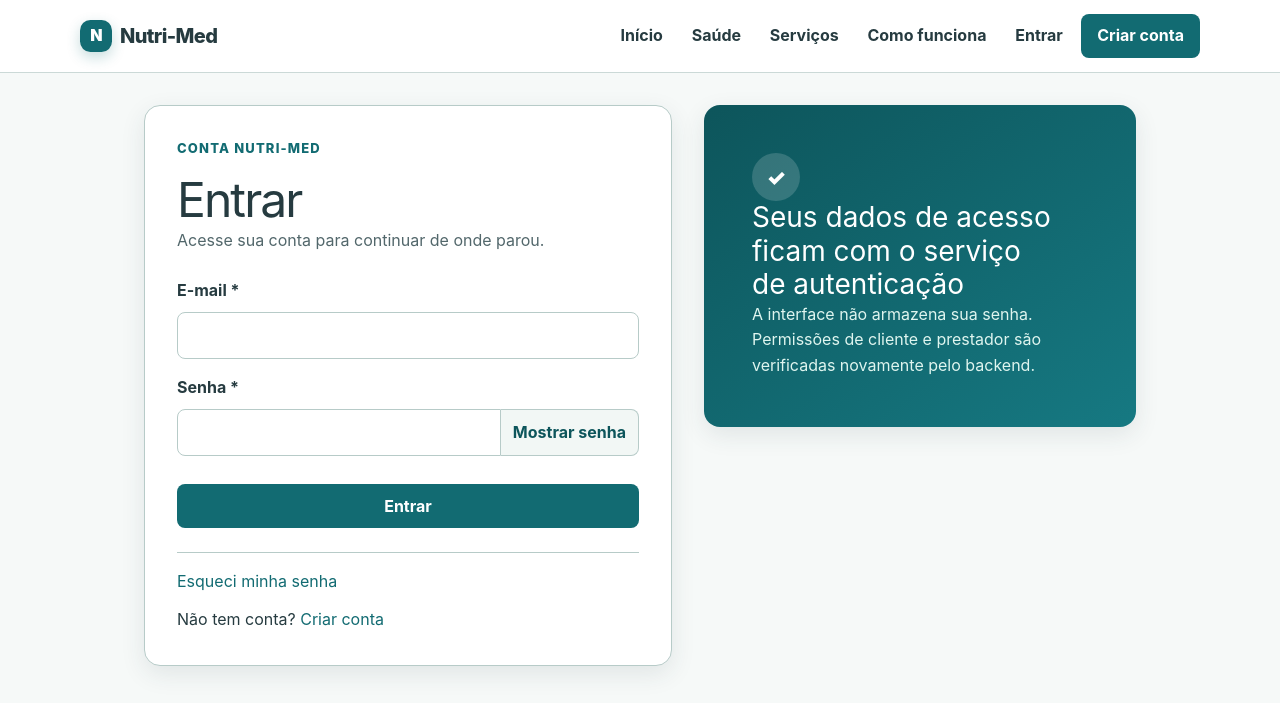
Scenario: autenticação › usa mensagem genérica para credenciais inválidas
Step 1. Type "pessoa@example.invalid" into the field labelled "E-mail *" → (408, 335), box [177,312,639,359]
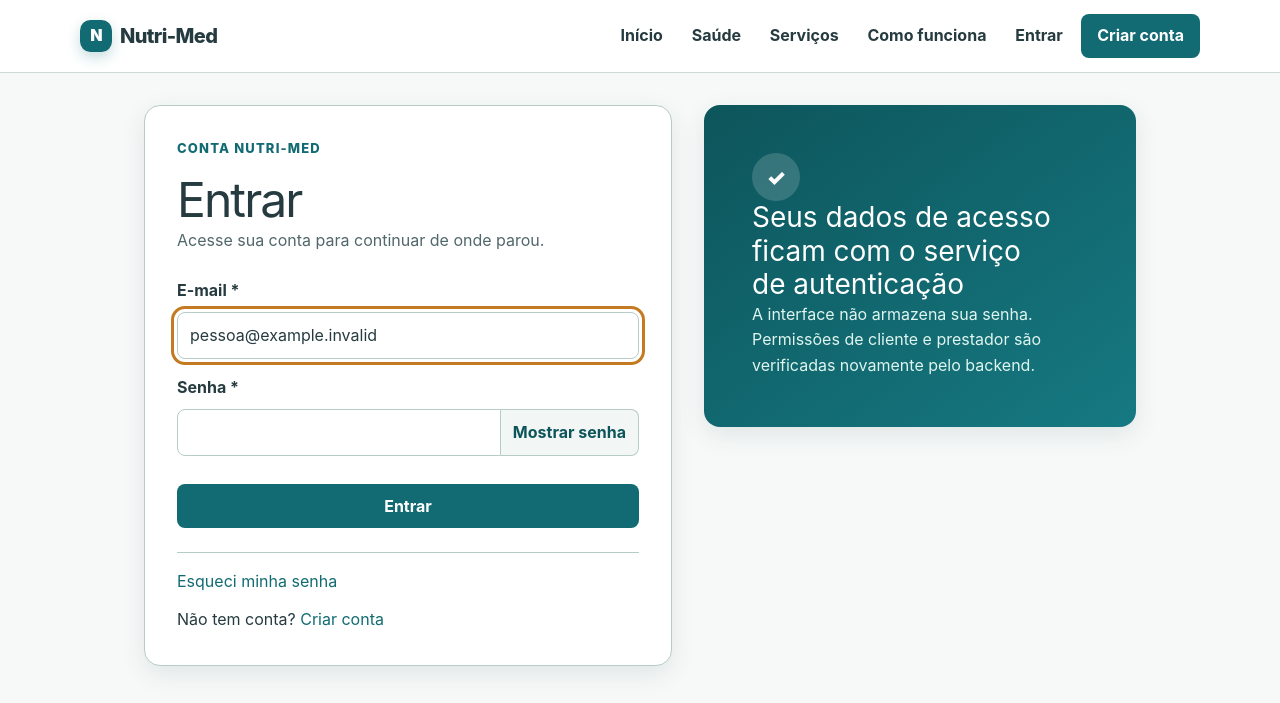
Step 2. Type "Senha-errada-123" into the password field labelled "Senha *" → (339, 433), box [177,409,501,456]
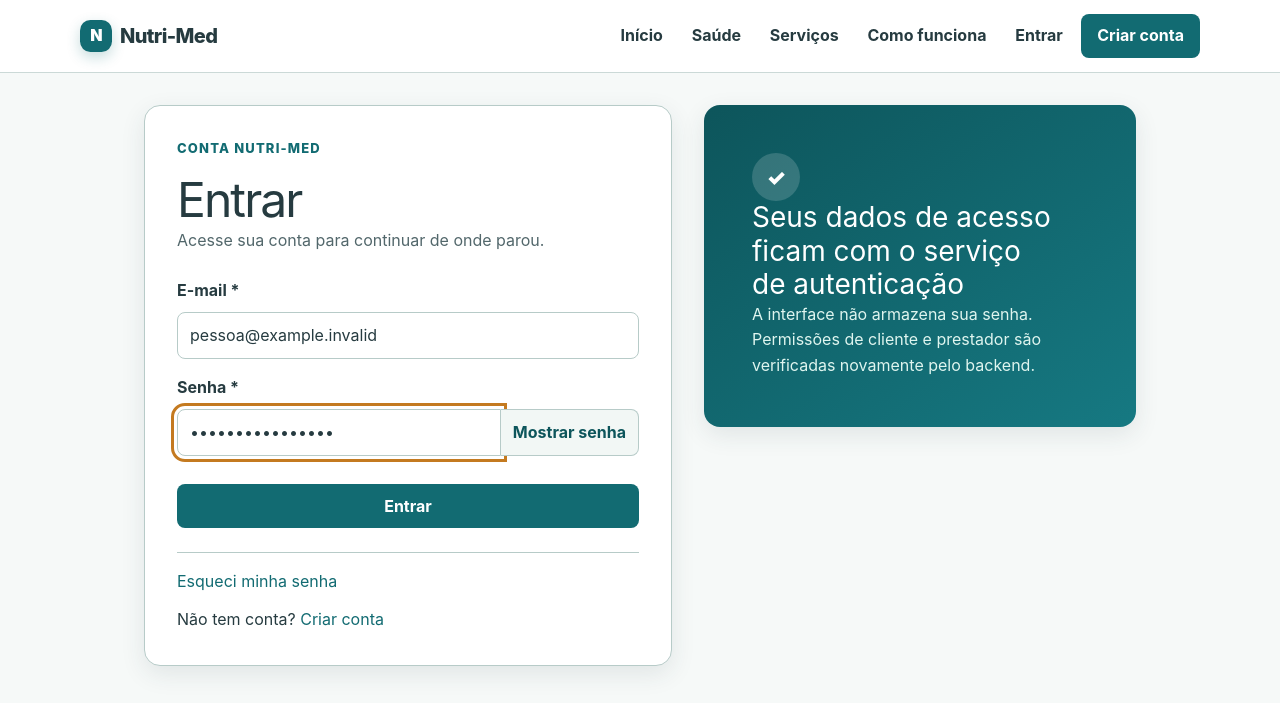
Step 3. Click the button "Entrar" → (408, 506), box [177,484,639,528]
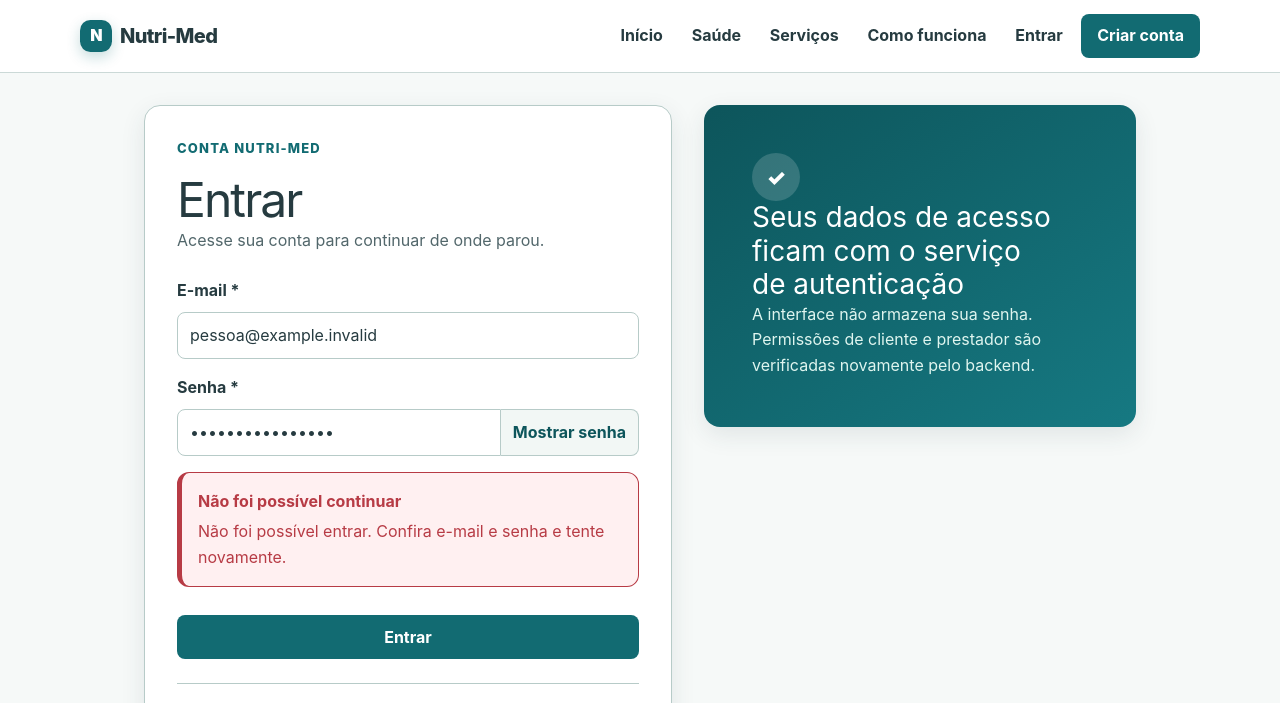
expect the text "Confira e-mail e senha" is shown: met, box [198,521,604,567]
